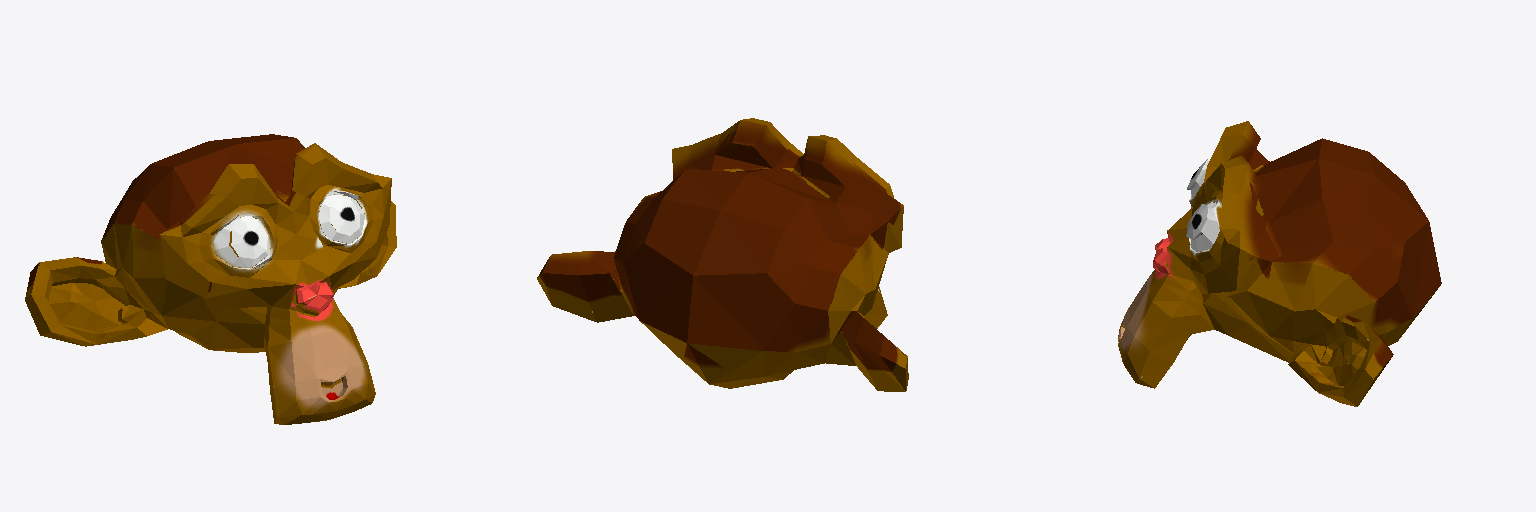
The picture shows the model from 3 angles: view 1: azimuth 30°, elevation 25°; view 2: azimuth 150°, elevation 25°; view 3: azimuth 270°, elevation 25°; orthographic projection.
Parts seen in each view (by area): view 1: Suzanne; view 2: Suzanne; view 3: Suzanne.
Boxes of the visible parts, <box> form: Suzanne: <box>25,134,396,424</box>; Suzanne: <box>537,118,908,391</box>; Suzanne: <box>1118,121,1441,406</box>.
Bounding box in the file's own units: 2.73 × 1.62 × 2.08.
1 materials, 1 textured.